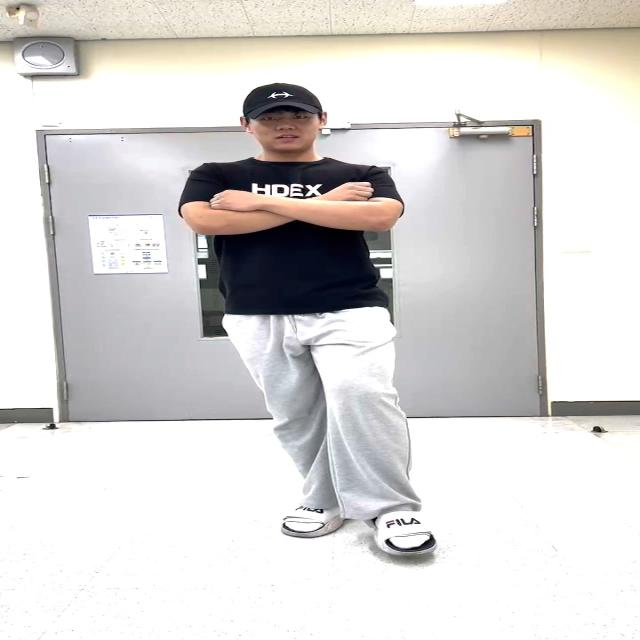leg: (322, 321, 428, 555)
